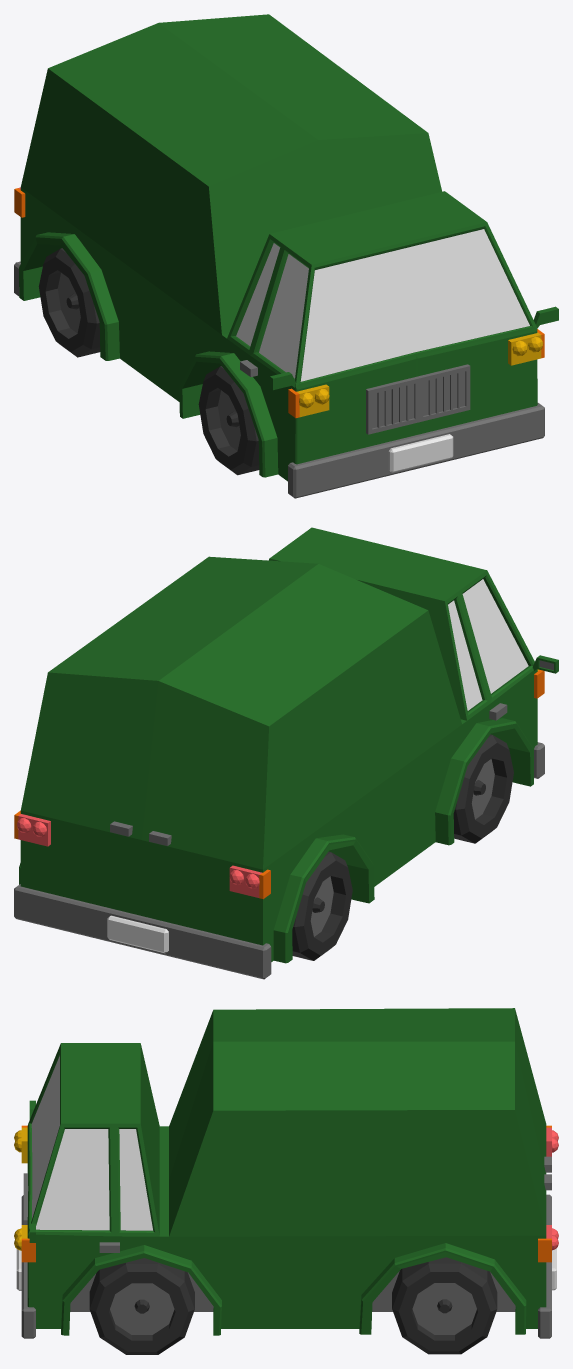
File: Car J.fbx
3 views of the same model, one above another, from view 1: azimuth 30°, elevation 25°; view 2: azimuth 150°, elevation 25°; view 3: azimuth 270°, elevation 25° (orthographic). The views are drawn at different scales.
Visible parts, largest first — view 1: Car J; view 2: Car J; view 3: Car J.
Boxes of the visible parts, box(x1,y1,x2,y2) form: Car J: box(14, 14, 558, 498); Car J: box(14, 527, 558, 979); Car J: box(14, 1008, 558, 1354).
Size of the model in its own units: 234 by 211 by 409.
